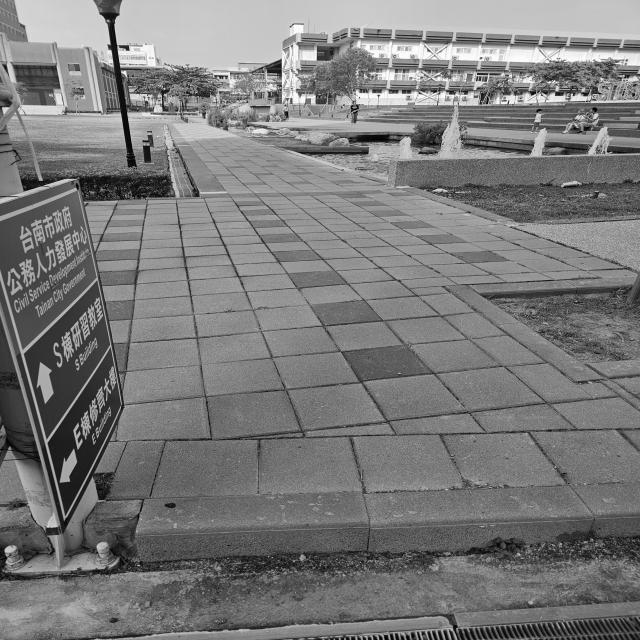Road-Object: (86, 125, 640, 562), (253, 118, 414, 133)
floor: (459, 102, 640, 137), (361, 105, 453, 125)
people: (563, 109, 586, 134), (578, 107, 599, 132), (531, 108, 543, 132), (350, 101, 359, 124), (283, 104, 289, 119), (200, 106, 206, 119)
